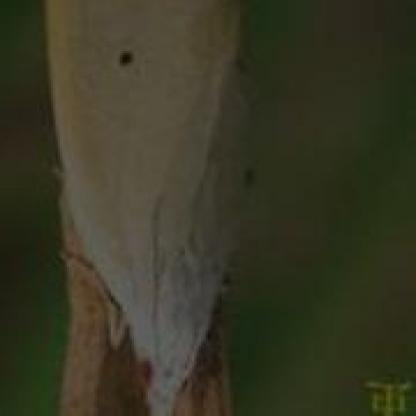stem-borer: (44, 0, 256, 416)
